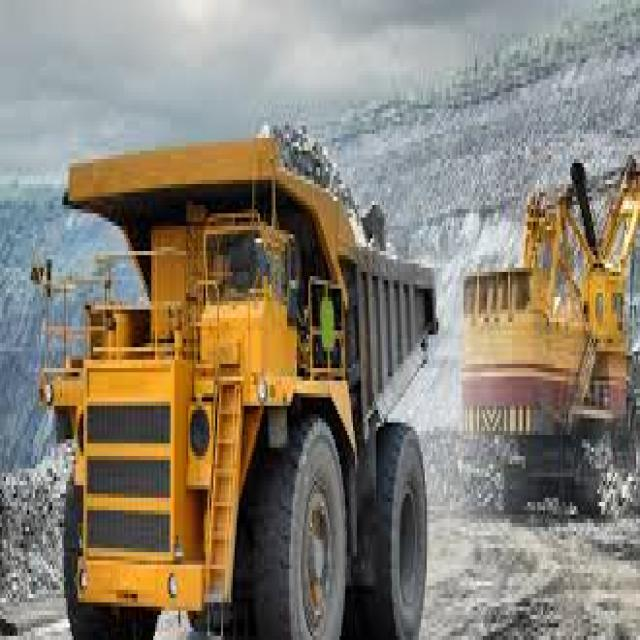dump_truck: (25, 75, 433, 636)
